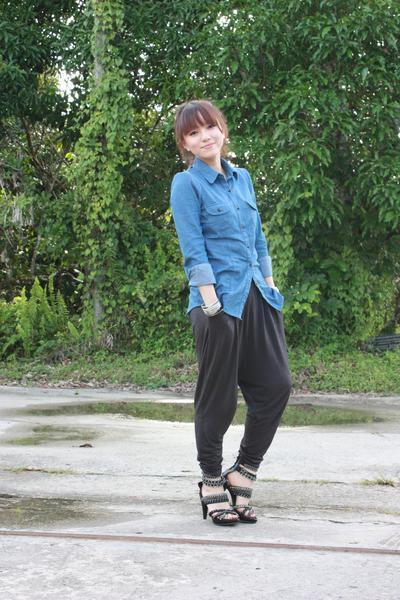pants: (184, 278, 290, 479)
shirt: (165, 152, 283, 318)
shoe: (200, 460, 257, 526)
